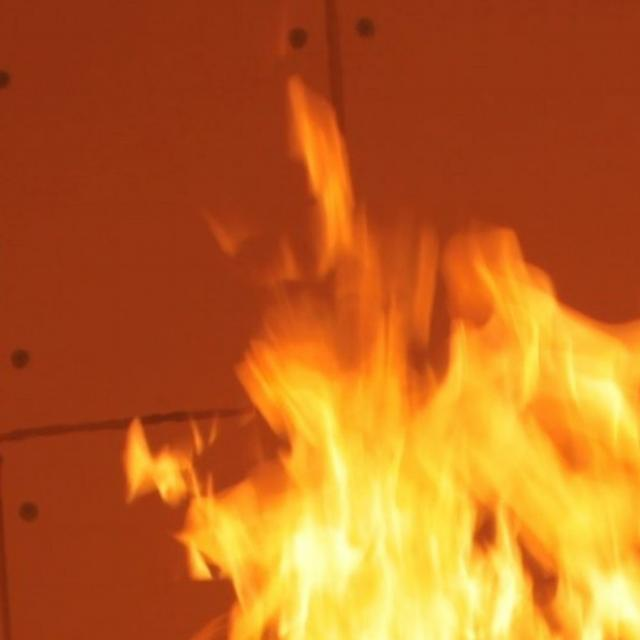Fire: (106, 64, 640, 632)
